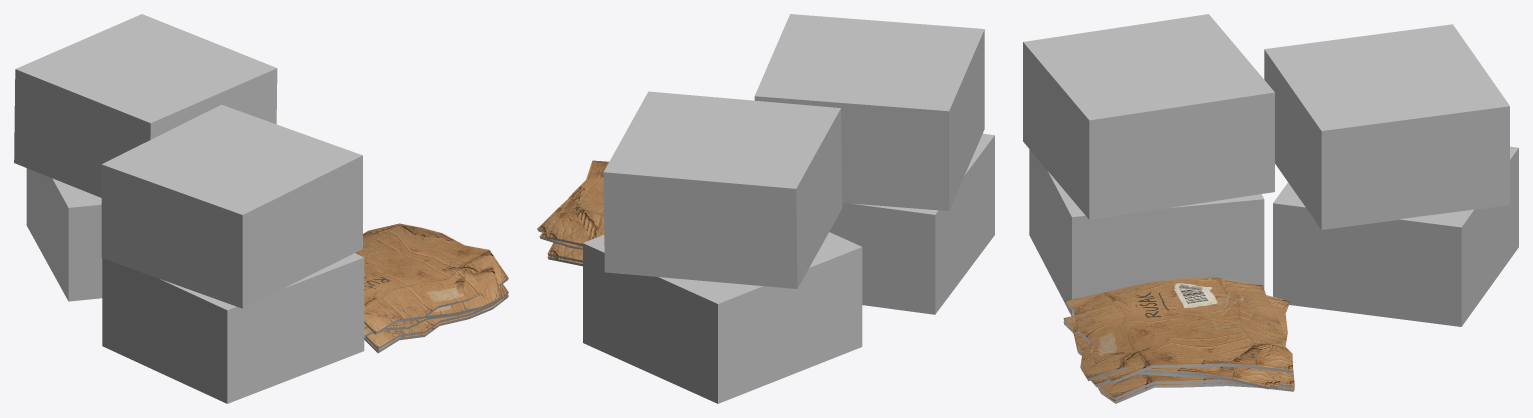
File: p_kardus.obj
The picture shows the model from 3 angles, left to right: view 1: azimuth 30°, elevation 25°; view 2: azimuth 150°, elevation 25°; view 3: azimuth 270°, elevation 25°; orthographic projection. The views are drawn at different scales.
Parts seen in each view (by area): view 1: GEO-box_MSH-box; view 2: GEO-box_MSH-box; view 3: GEO-box_MSH-box.
Part boxes in pixels (box(x1,y1,x2,y2)): GEO-box_MSH-box: box(14, 14, 508, 403); GEO-box_MSH-box: box(537, 14, 994, 403); GEO-box_MSH-box: box(1023, 14, 1518, 403).
Bounding box in the file's own units: 4.52 × 2.38 × 5.03.
